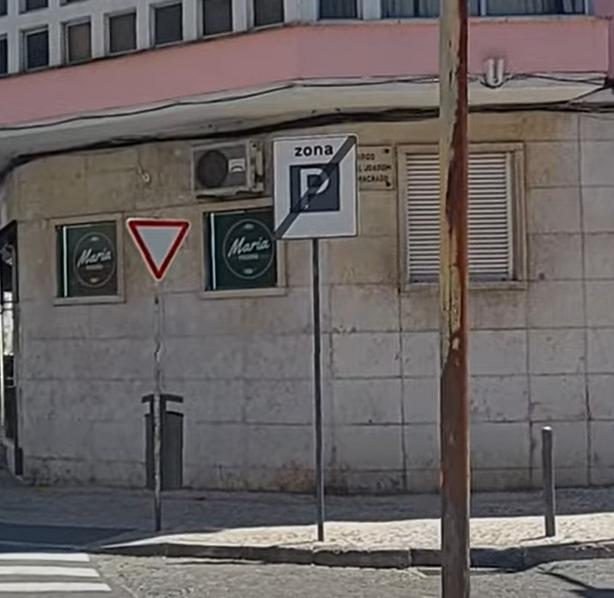cedencia de passagem: (126, 212, 202, 283)
fim de zona de estacionamento autorizado: (270, 125, 357, 239)
